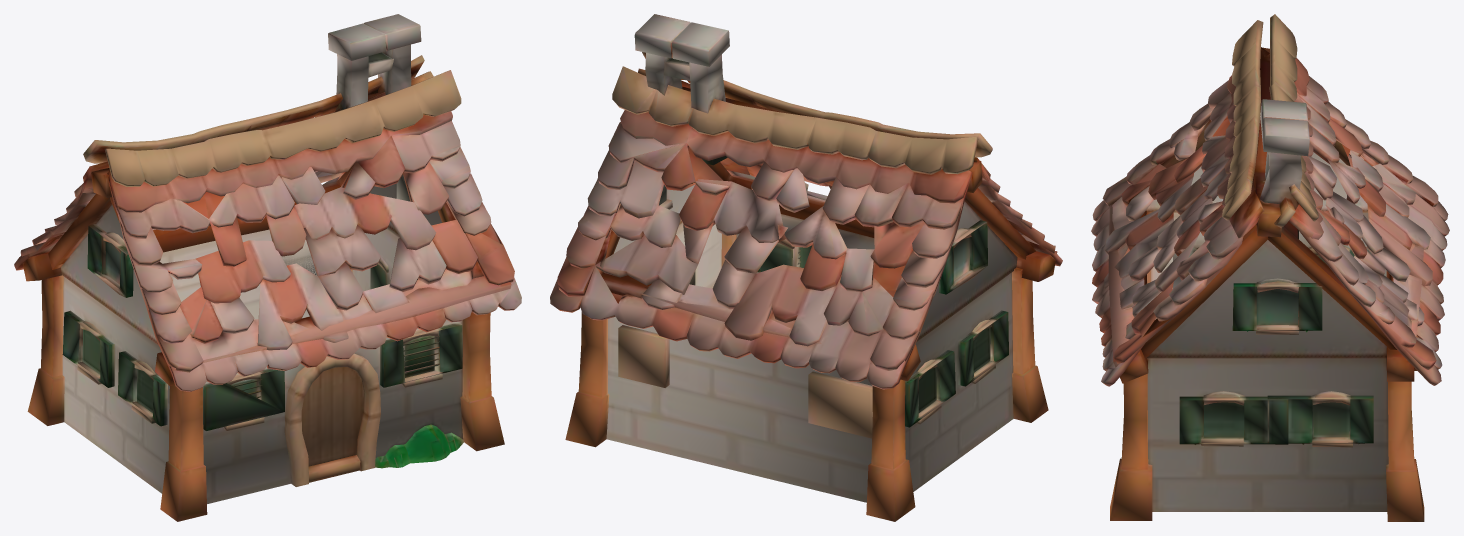
Rendered from bld_house_a_v1.glb.
3 renders of one model, left to right at view 1: azimuth 30°, elevation 25°; view 2: azimuth 150°, elevation 25°; view 3: azimuth 270°, elevation 25°, orthographic. The views are drawn at different scales.
Visible parts, largest first — view 1: tripo_node_655440da-4f89-42ca-99f5-3a57780a4919; view 2: tripo_node_655440da-4f89-42ca-99f5-3a57780a4919; view 3: tripo_node_655440da-4f89-42ca-99f5-3a57780a4919.
Part boxes in pixels (box(x1,y1,x2,y2)): tripo_node_655440da-4f89-42ca-99f5-3a57780a4919: box(14, 14, 521, 521); tripo_node_655440da-4f89-42ca-99f5-3a57780a4919: box(550, 14, 1062, 521); tripo_node_655440da-4f89-42ca-99f5-3a57780a4919: box(1091, 14, 1449, 521).
Size of the model in its own units: 0.9902 by 0.998 by 0.8457.
1 material, 1 textured.
